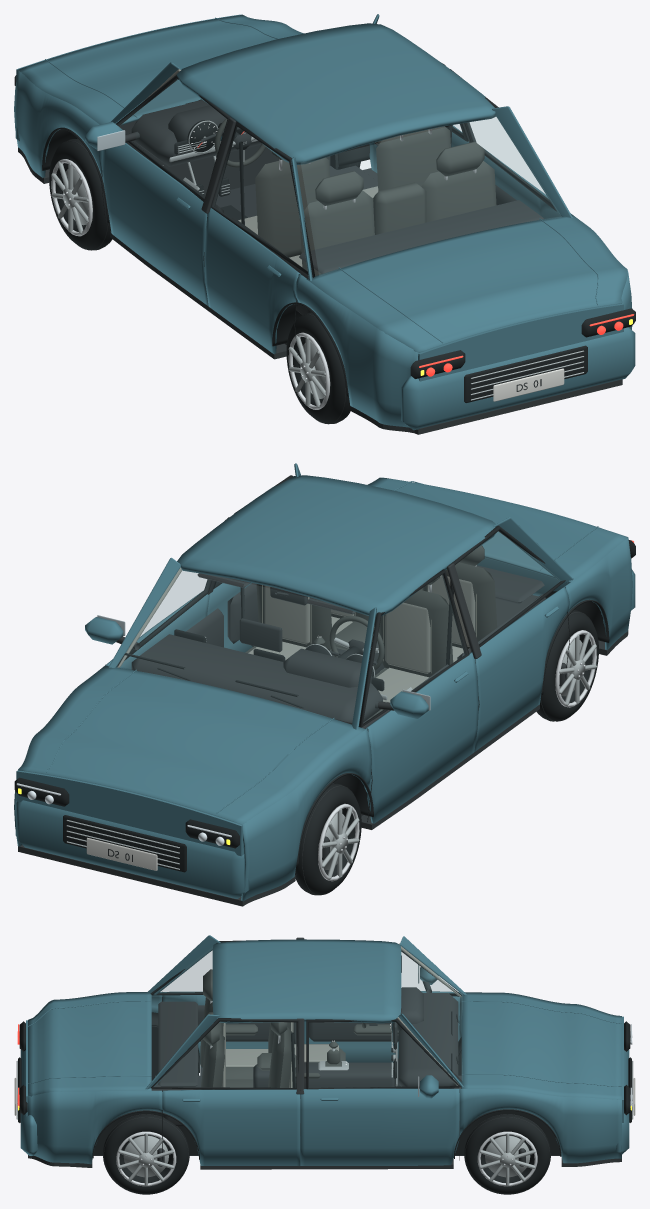
The model's file is DS_Sedan_A_closed_shell.fbx.
3 views of the same model, one above another, from view 1: azimuth 30°, elevation 25°; view 2: azimuth 150°, elevation 25°; view 3: azimuth 270°, elevation 25° (orthographic). The views are drawn at different scales.
Parts seen in each view (by area): view 1: Roof, Trunk, Glass_Rear, Hood, DoorFront_L, DoorRear_L, RearQuarter_L, BumperFacia_-1, Glass_Rear_L, Glass_Front_L, Shell_RearUpperFacia, RearParcelShelf (+31 smaller); view 2: Hood, Roof, Glass_Windshield, DoorFront_L, Dashboard, DoorRear_L, Trunk, Glass_Front_L, FrontWing_L, BumperFacia_1, Glass_Rear_L, Shell_FrontUpperFacia (+36 smaller); view 3: Roof, Hood, DoorFront_R, Trunk, DoorRear_R, Glass_Front_R, Glass_Rear_R, FrontWing_R, RearQuarter_R, Glass_Windshield, Glass_Rear, Dashboard (+31 smaller).
Boxes of the visible parts, bbox=[...] form: Roof: bbox=[176, 23, 495, 164]; Trunk: bbox=[306, 214, 627, 352]; Glass_Rear: bbox=[301, 115, 560, 275]; Hood: bbox=[18, 14, 303, 125]; DoorFront_L: bbox=[101, 143, 208, 306]; DoorRear_L: bbox=[204, 208, 300, 354]; RearQuarter_L: bbox=[294, 274, 419, 429]; BumperFacia_-1: bbox=[401, 327, 635, 430]; Glass_Rear_L: bbox=[214, 127, 306, 270]; Glass_Front_L: bbox=[119, 81, 226, 197]; Shell_RearUpperFacia: bbox=[418, 303, 623, 381]; RearParcelShelf: bbox=[299, 200, 544, 273]; Hood: bbox=[18, 665, 365, 824]; Roof: bbox=[177, 475, 495, 616]; Glass_Windshield: bbox=[117, 568, 368, 722]; DoorFront_L: bbox=[366, 652, 478, 823]; Dashboard: bbox=[131, 634, 382, 724]; DoorRear_L: bbox=[474, 587, 569, 751]; Trunk: bbox=[367, 477, 627, 582]; Glass_Front_L: bbox=[364, 575, 464, 722]; FrontWing_L: bbox=[241, 728, 371, 901]; BumperFacia_1: bbox=[15, 800, 249, 898]; Glass_Rear_L: bbox=[456, 532, 559, 643]; Shell_FrontUpperFacia: bbox=[16, 770, 243, 856]; Roof: bbox=[212, 939, 401, 1023]; Hood: bbox=[461, 992, 621, 1099]; DoorFront_R: bbox=[300, 1088, 459, 1165]; Trunk: bbox=[28, 992, 151, 1096]; DoorRear_R: bbox=[162, 1089, 300, 1165]; Glass_Front_R: bbox=[309, 1022, 456, 1087]; Glass_Rear_R: bbox=[155, 1022, 295, 1087]; FrontWing_R: bbox=[459, 1088, 621, 1163]; RearQuarter_R: bbox=[28, 1090, 162, 1164]; Glass_Windshield: bbox=[402, 951, 462, 1079]; Glass_Rear: bbox=[150, 947, 212, 1081]; Dashboard: bbox=[398, 993, 458, 1088].
Bounding box in the file's own units: 225 × 468 × 146.
